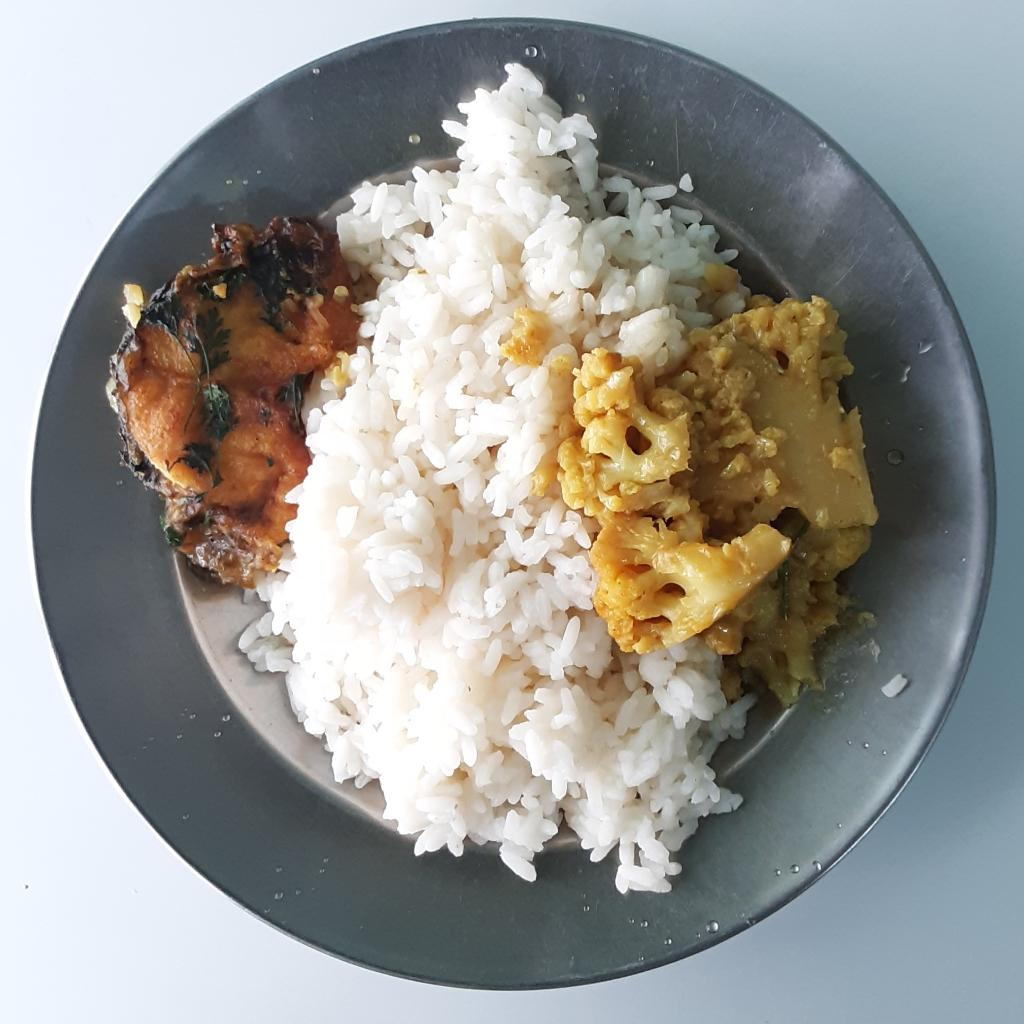cauliflower: (561, 292, 875, 702)
fish: (103, 207, 372, 595)
rice: (234, 54, 757, 893)
